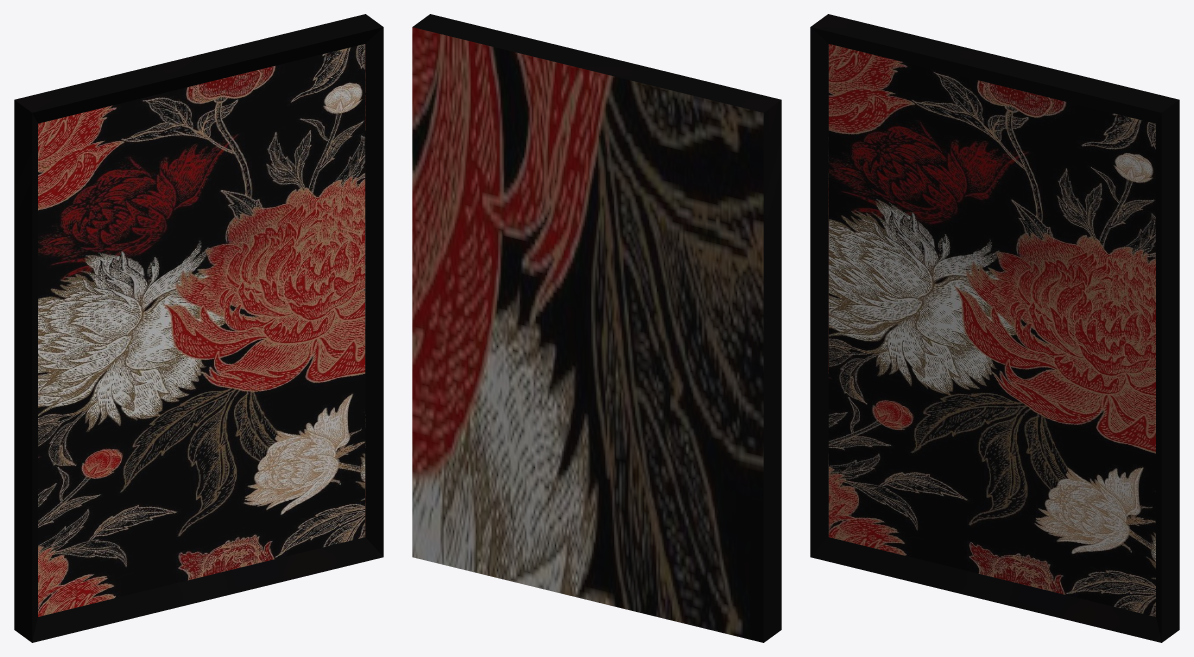
Rendered from painting_two.glb.
3 renders of one model, left to right at view 1: azimuth 30°, elevation 25°; view 2: azimuth 150°, elevation 25°; view 3: azimuth 330°, elevation 25°, orthographic.
Visible parts, largest first — view 1: Куб; view 2: Куб; view 3: Куб.
Part boxes in pixels (x1=…): Куб: x1=14, y1=14, x2=383, y2=642; Куб: x1=412, y1=14, x2=781, y2=642; Куб: x1=810, y1=14, x2=1179, y2=642.
Size of the model in its own units: 1.37 by 1.98 by 0.1211.
Materials: 1 (1 with a texture image).
